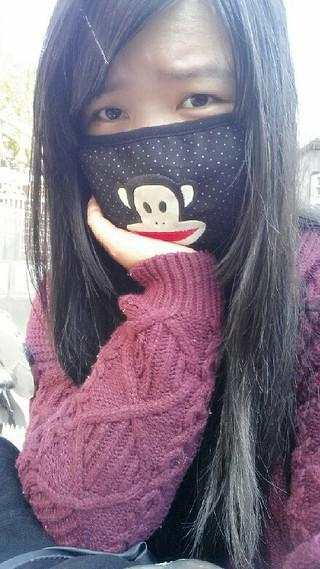OK: (61, 64, 245, 248)
